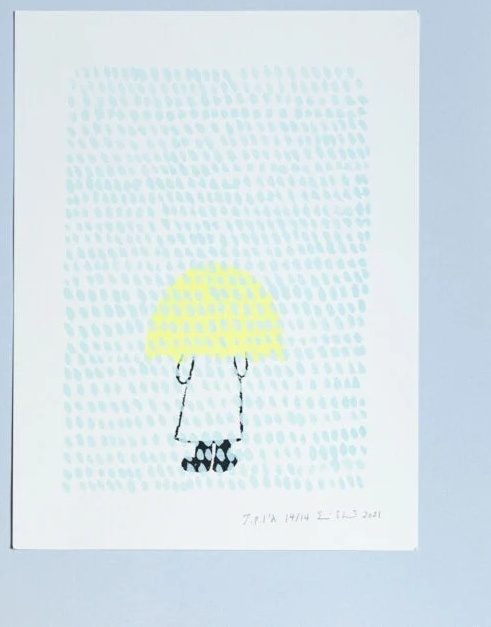painting: (10, 10, 422, 552)
